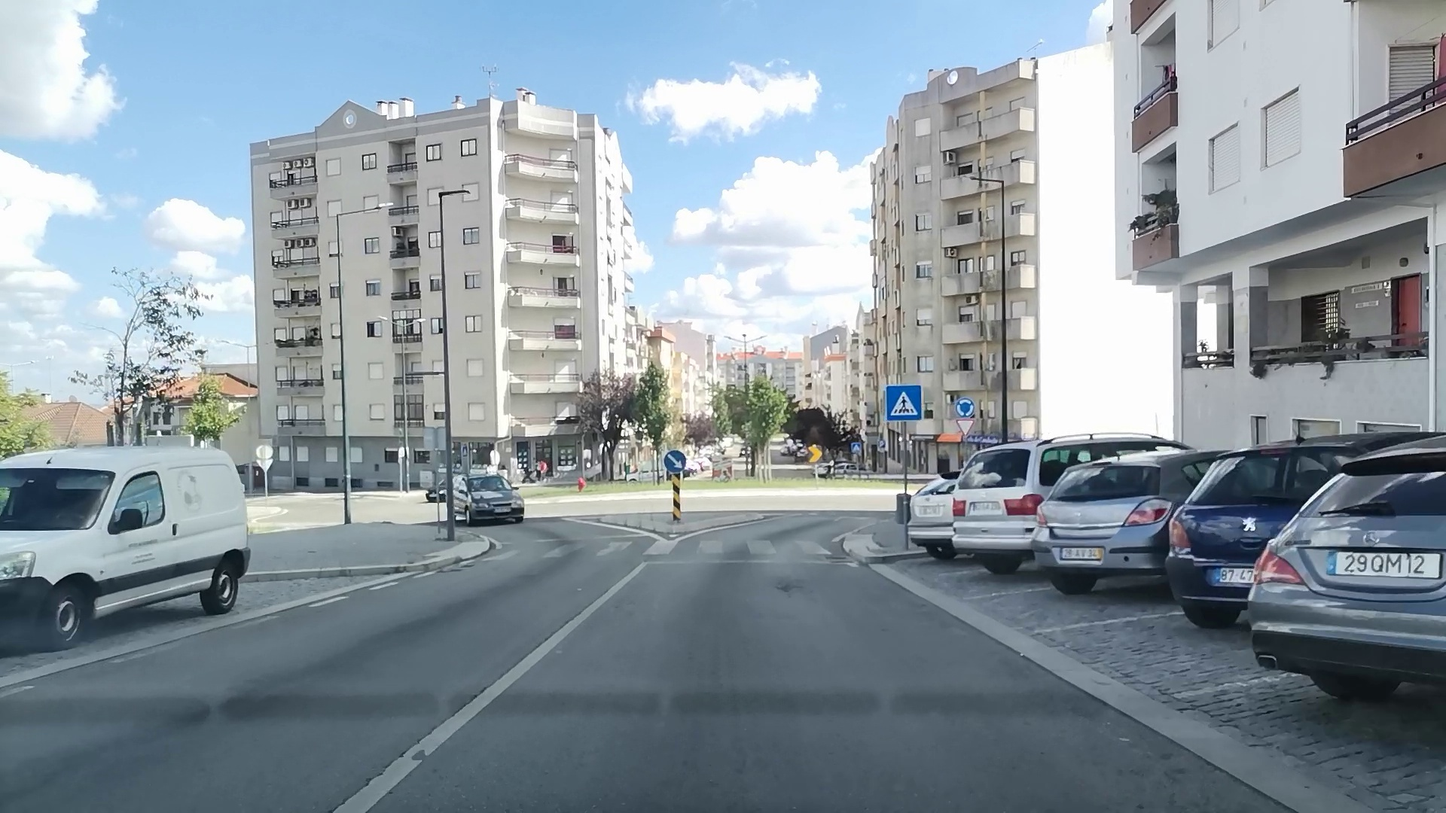Stairs: (461, 536, 837, 566)
